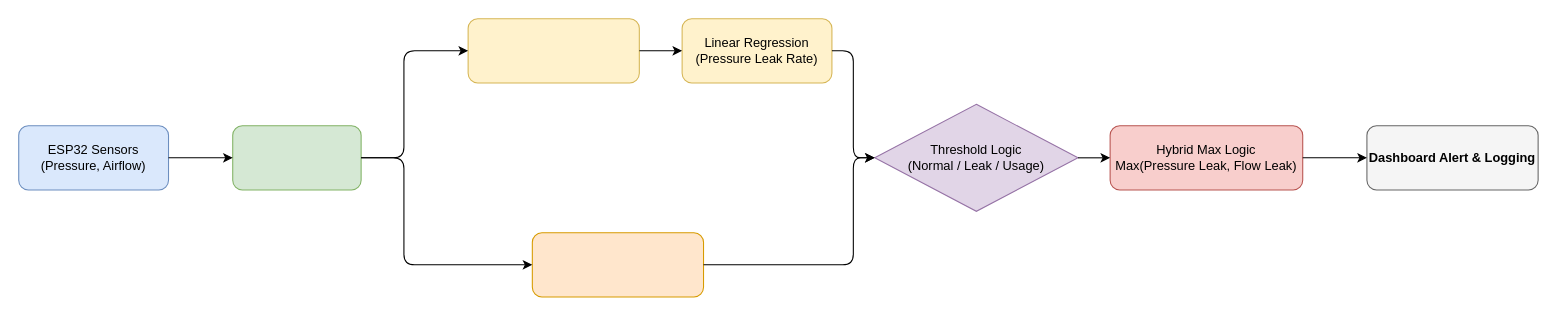
This 1557x316 diagram has some shape labels left out. Each missing label, with the centre of its shape:
"30-Second Rolling Buffer" belongs at point 296,157.
"Airflow Processing (Direct L/min Measurement)" belongs at point 617,264.
"Sawtooth Filter (Discards Pump-On Spikes)" belongs at point 553,50.
